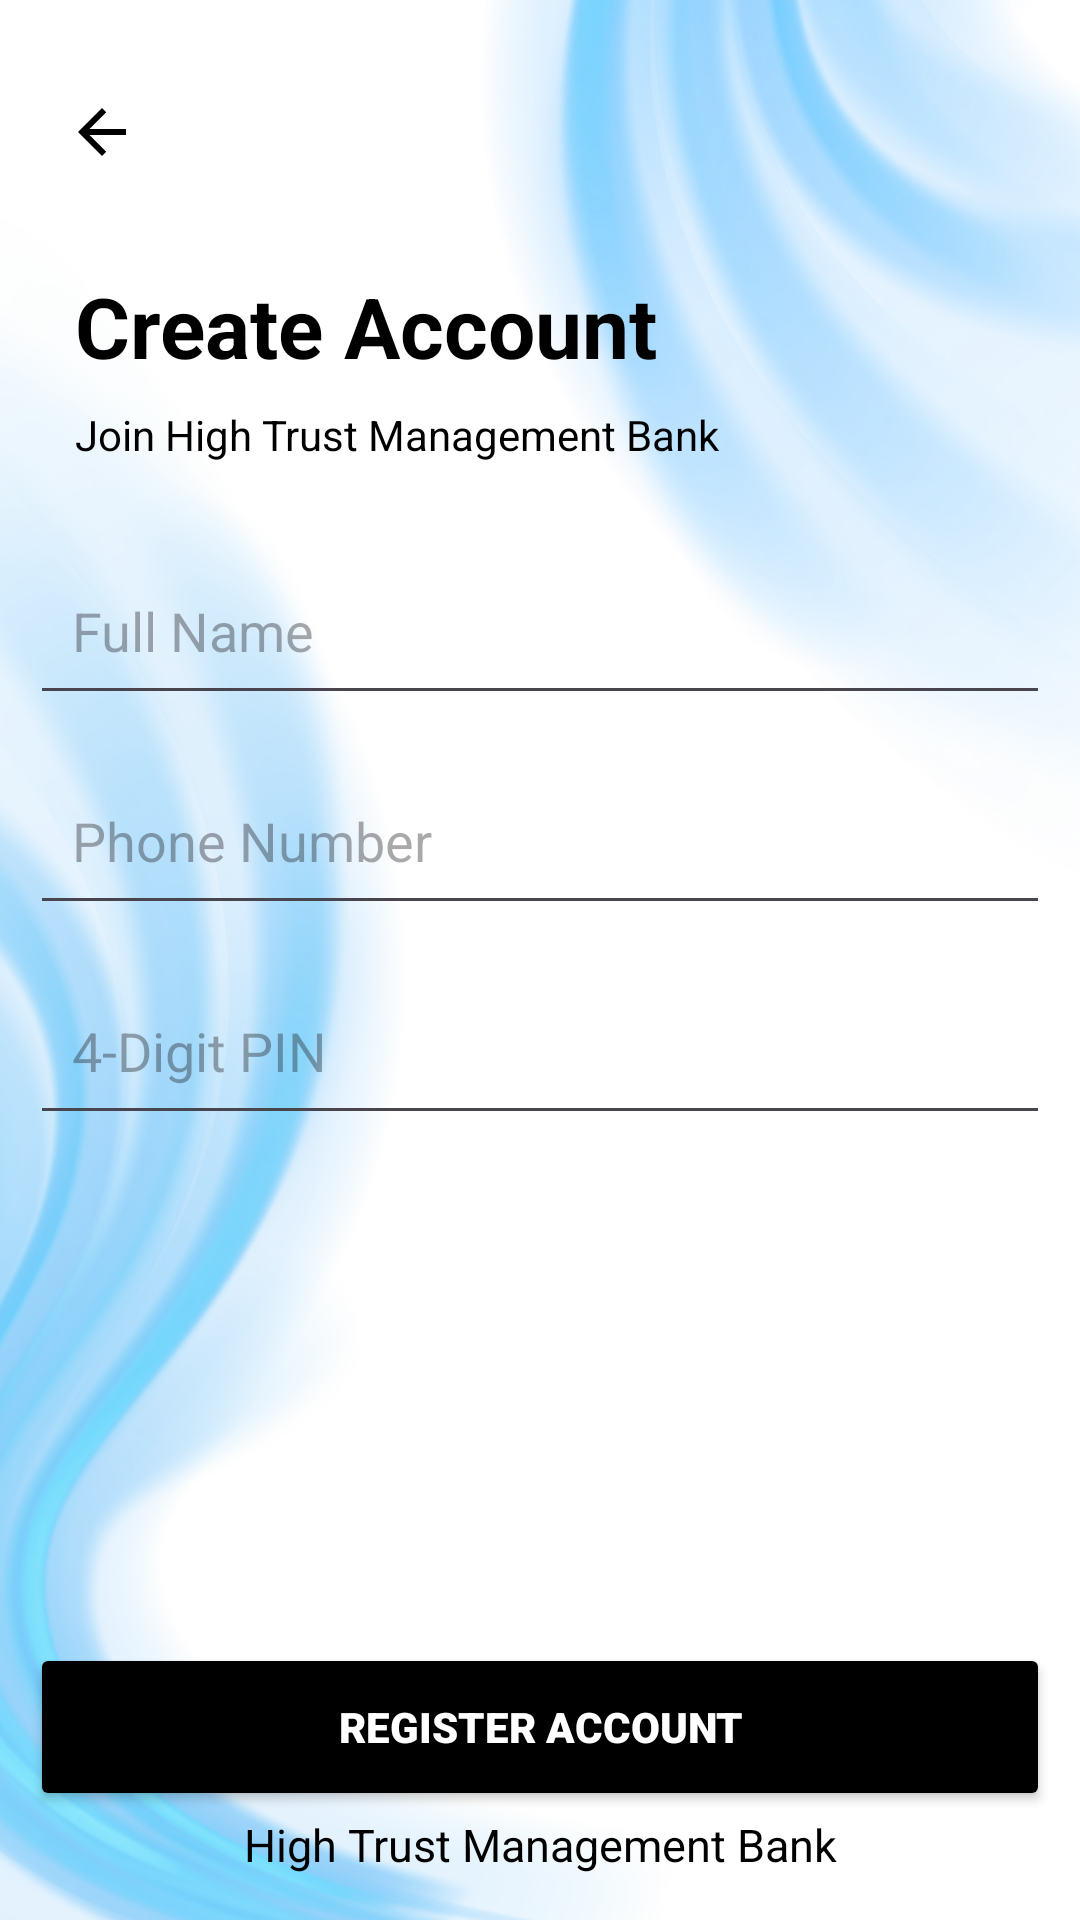

Icon bounding boxes for this 1080px×1920px phone screenshot, format (x1, y1, x2, y2):
Go back: (78, 108, 126, 156)
